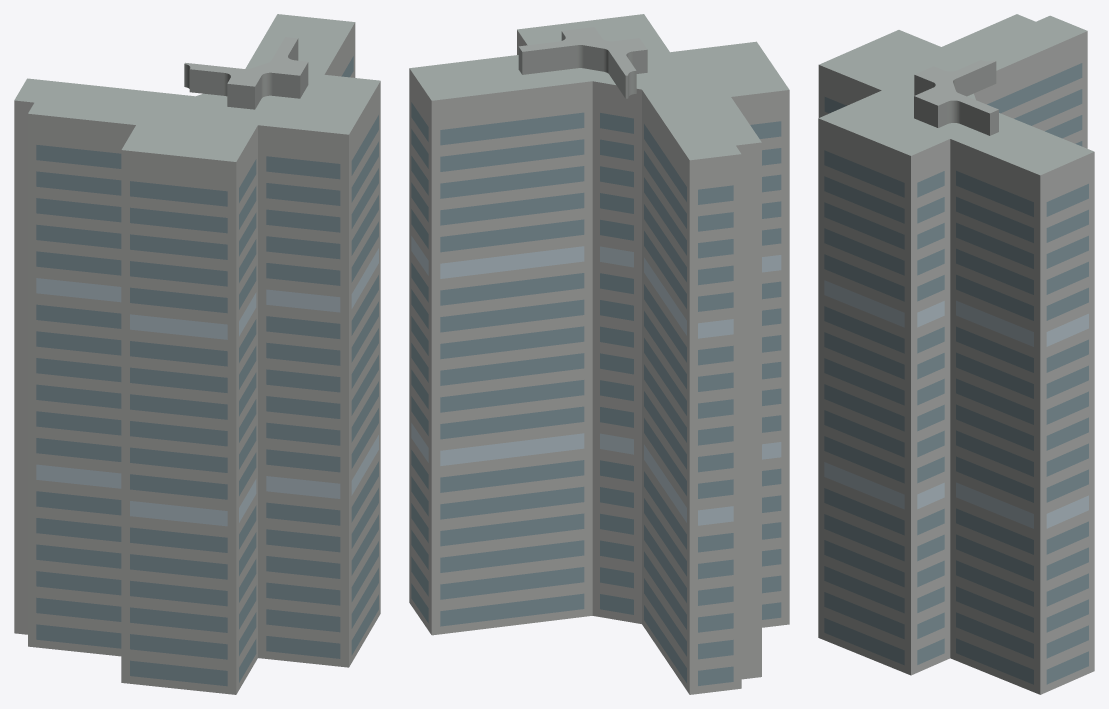
The model's file is fallback-dmc-parkview-xi-301.glb.
3 renders of one model, left to right at view 1: azimuth 30°, elevation 25°; view 2: azimuth 150°, elevation 25°; view 3: azimuth 270°, elevation 25°, orthographic. The views are drawn at different scales.
Parts seen in each view (by area): view 1: fallback-dmc-parkview-xi-301; view 2: fallback-dmc-parkview-xi-301; view 3: fallback-dmc-parkview-xi-301.
Part boxes in pixels (box(x1,y1,x2,y2)): fallback-dmc-parkview-xi-301: box(14, 14, 380, 694); fallback-dmc-parkview-xi-301: box(409, 14, 789, 694); fallback-dmc-parkview-xi-301: box(818, 14, 1094, 694).
Size of the model in its own units: 37.06 by 58 by 26.78.
